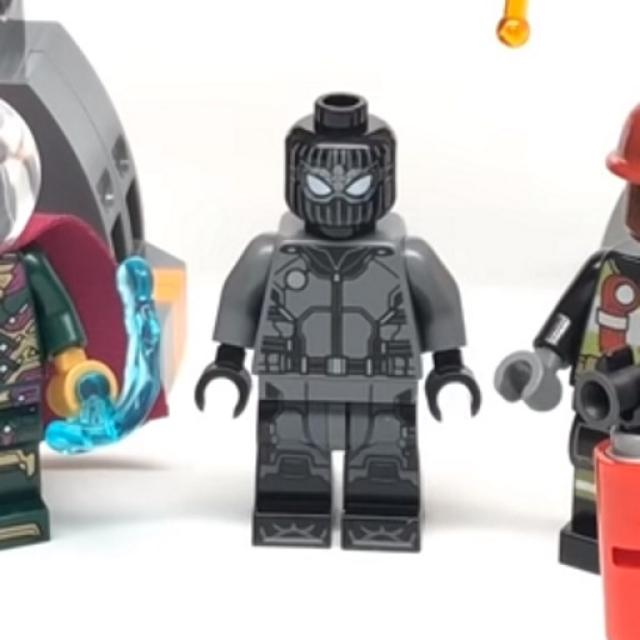Lego-Minifigures: (184, 84, 482, 564), (493, 79, 640, 594), (0, 96, 128, 544)
